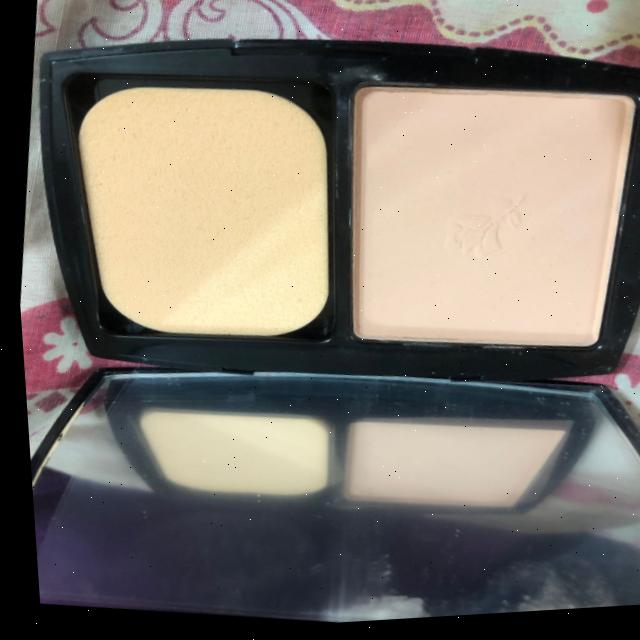beauty blender: (33, 52, 362, 368)
powder: (327, 60, 640, 394)
